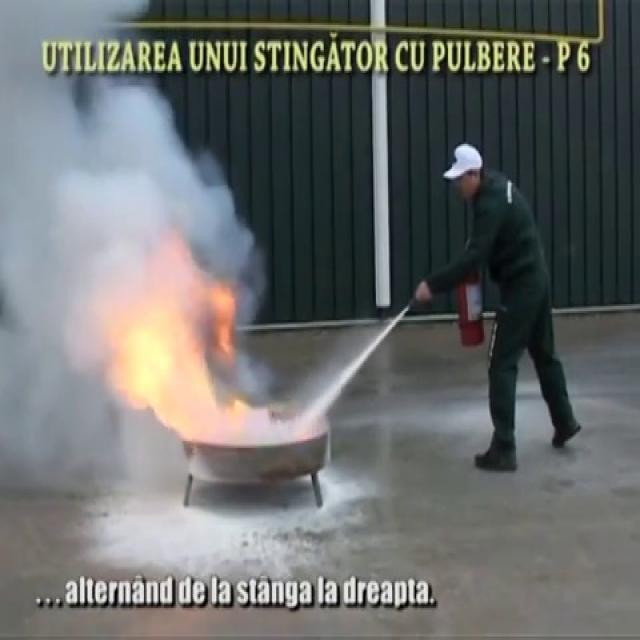Smoke: (50, 131, 257, 385)
